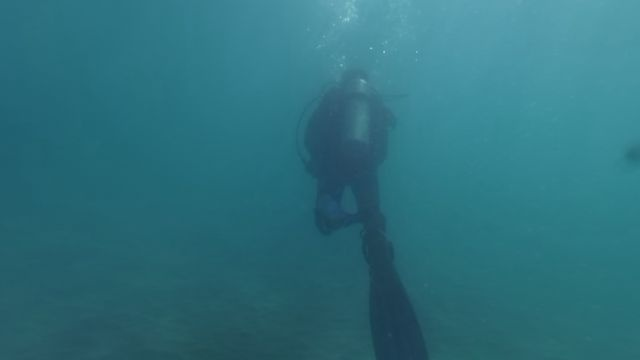Diver: (295, 62, 430, 354)
